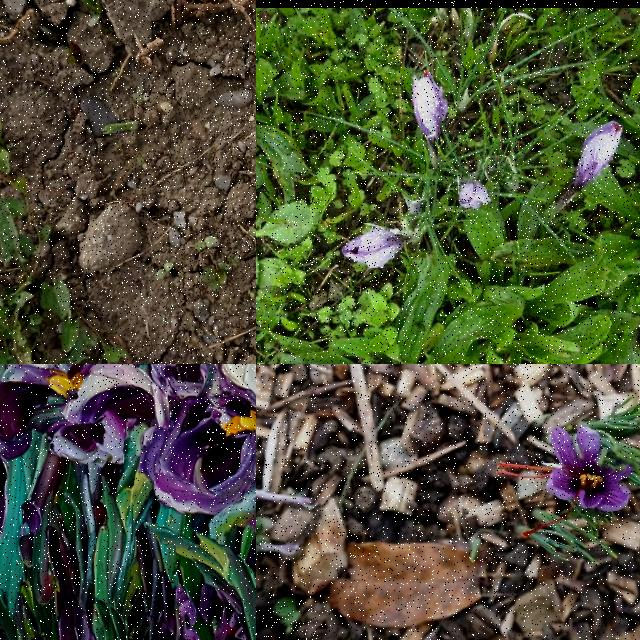flower: (496, 426, 634, 540), (574, 120, 624, 190), (412, 70, 450, 142), (341, 228, 404, 270), (458, 179, 492, 211)
